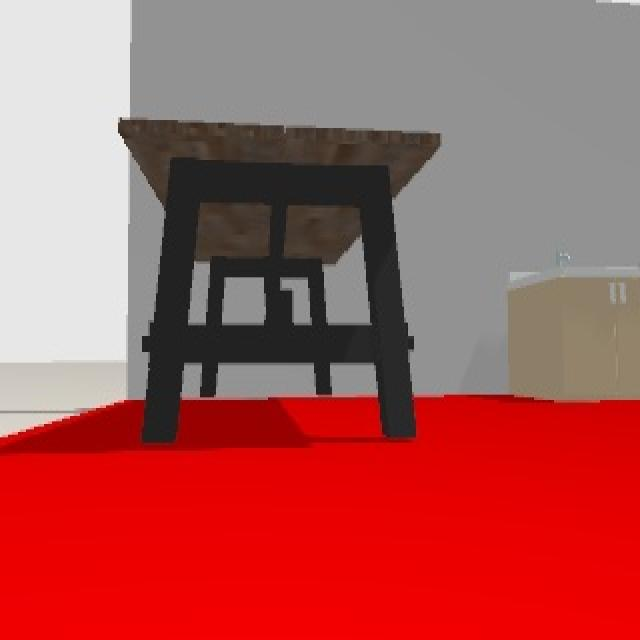dining: (119, 114, 441, 443)
